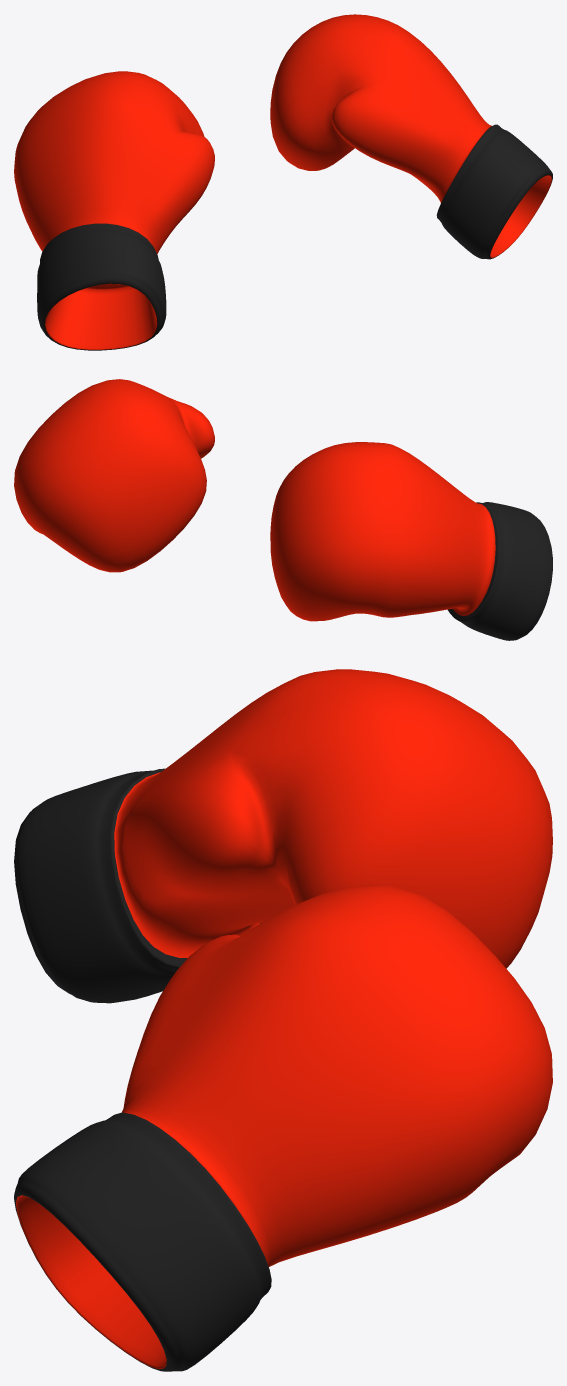
Rendered from Boxing_Glove_Double.fbx.
3 renders of one model, top to bottom at view 1: azimuth 30°, elevation 25°; view 2: azimuth 150°, elevation 25°; view 3: azimuth 270°, elevation 25°, orthographic. The views are drawn at different scales.
Parts seen in each view (by area): view 1: Boxing_Hand_Left, Boxing_Hand_Right; view 2: Boxing_Hand_Left, Boxing_Hand_Right; view 3: Boxing_Hand_Right, Boxing_Hand_Left.
Part boxes in pixels (x1,y1,x2,y2): Boxing_Hand_Left: (14, 71, 214, 350); Boxing_Hand_Right: (270, 14, 552, 259); Boxing_Hand_Left: (270, 442, 552, 640); Boxing_Hand_Right: (14, 379, 214, 572); Boxing_Hand_Right: (14, 884, 552, 1371); Boxing_Hand_Left: (14, 669, 552, 1003).
Size of the model in its own units: 6.01 by 2.35 by 3.
